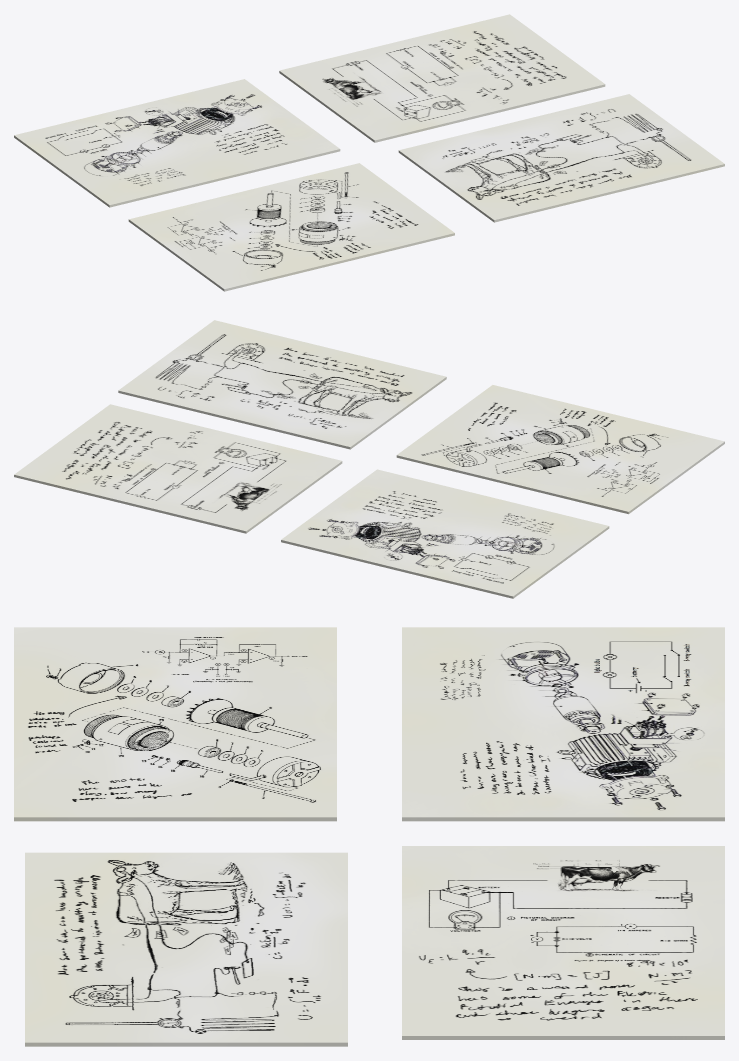
The model's file is PaperSciencey01.fbx.
3 views of the same model, one above another, from view 1: azimuth 30°, elevation 25°; view 2: azimuth 150°, elevation 25°; view 3: azimuth 270°, elevation 25° (orthographic). The views are drawn at different scales.
Parts seen in each view (by area): view 1: PaperSciencey01, PaperSciencey02, PaperSciencey04, PaperSciencey03; view 2: PaperSciencey03, PaperSciencey04, PaperSciencey02, PaperSciencey01; view 3: PaperSciencey01, PaperSciencey02, PaperSciencey04, PaperSciencey03.
Boxes of the visible parts, <box> form: PaperSciencey01: <box>128,163,454,291</box>; PaperSciencey02: <box>14,79,340,207</box>; PaperSciencey04: <box>398,94,724,222</box>; PaperSciencey03: <box>279,14,605,142</box>; PaperSciencey03: <box>14,404,342,533</box>; PaperSciencey04: <box>118,320,446,449</box>; PaperSciencey02: <box>281,469,609,598</box>; PaperSciencey01: <box>396,385,724,514</box>; PaperSciencey01: <box>14,627,336,821</box>; PaperSciencey02: <box>402,627,724,821</box>; PaperSciencey04: <box>25,852,347,1046</box>; PaperSciencey03: <box>402,846,724,1039</box>.
Bounding box in the file's own units: 11.44 × 0.0513 × 8.28.
